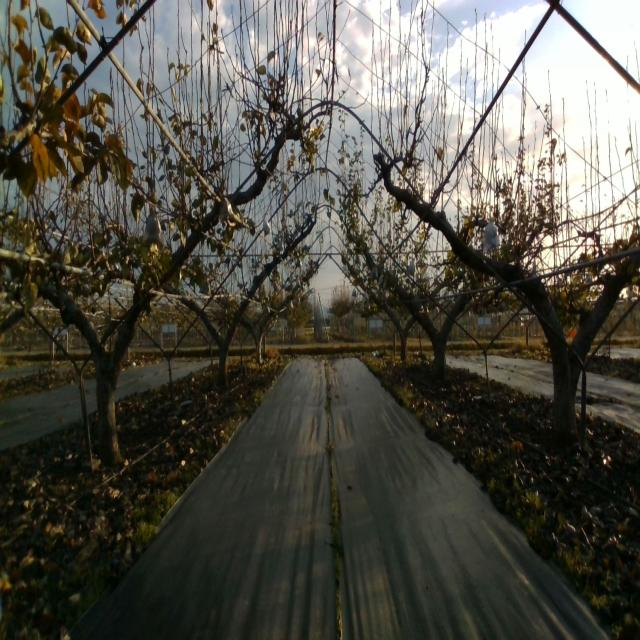pearbags: (142, 208, 164, 247), (483, 217, 500, 252), (219, 196, 234, 224)
